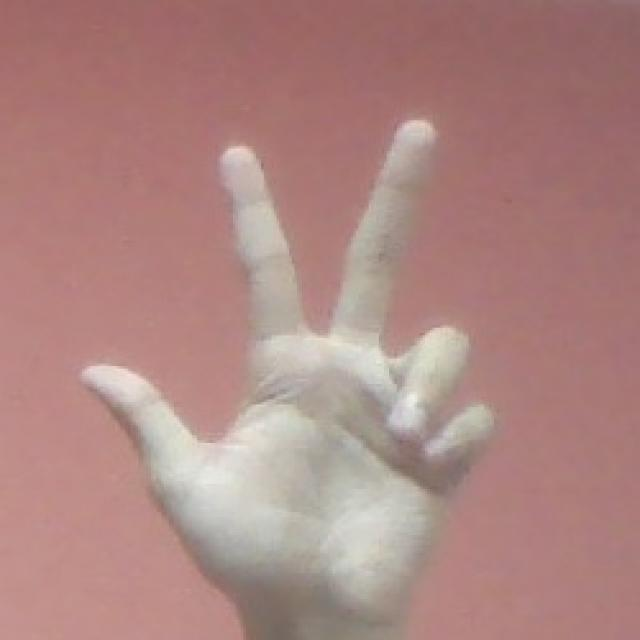Numeric-3: (76, 119, 493, 614)
